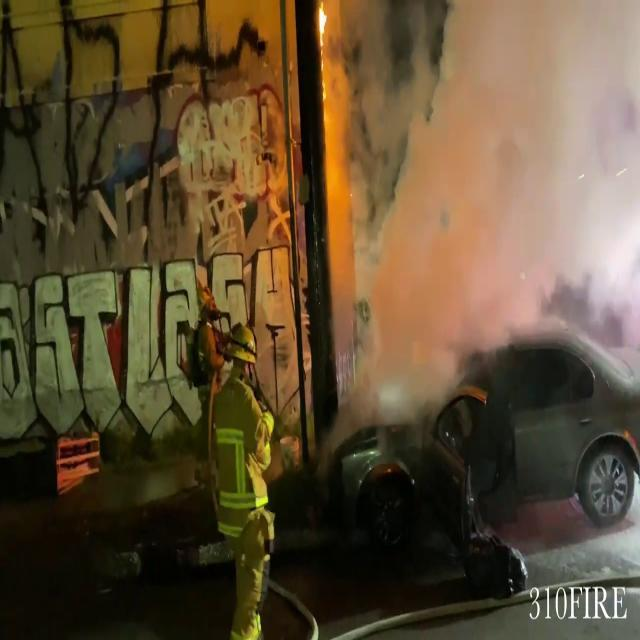Smoke: (333, 0, 640, 383)
